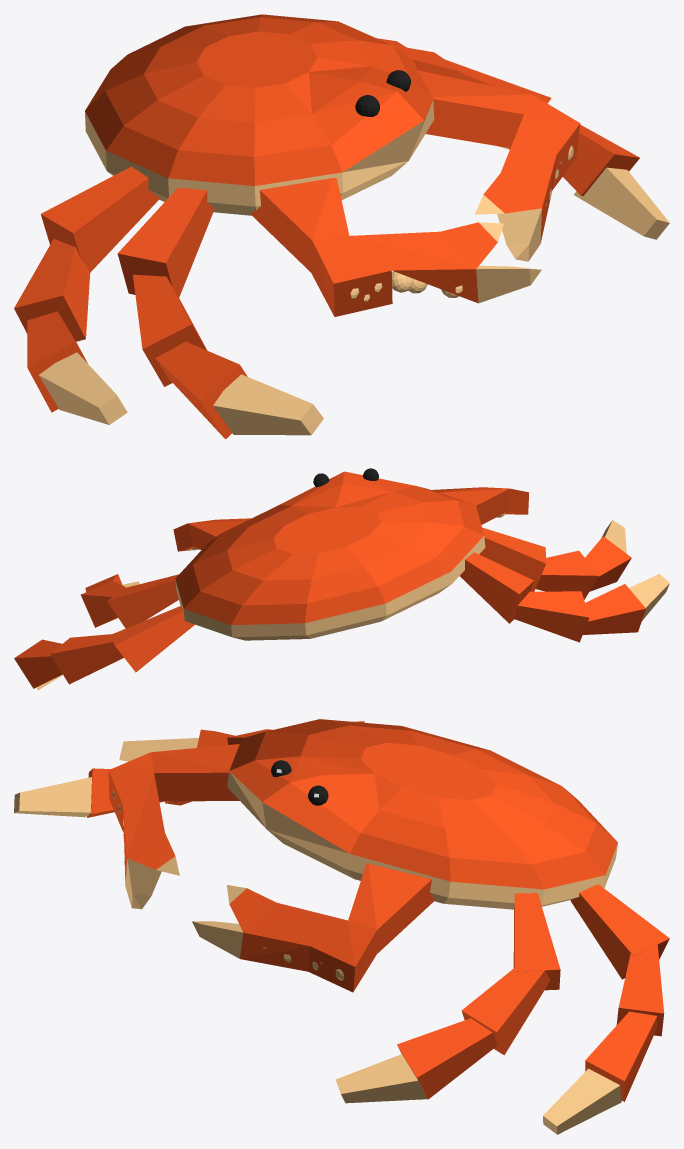
The model's file is animals-feeling-crabby-089.glb.
3 renders of one model, top to bottom at view 1: azimuth 30°, elevation 25°; view 2: azimuth 150°, elevation 25°; view 3: azimuth 270°, elevation 25°, orthographic. The views are drawn at different scales.
Visible parts, largest first — view 1: Node; view 2: Node; view 3: Node.
Part boxes in pixels (box(x1,y1,x2,y2)): Node: box(14, 14, 669, 439); Node: box(14, 468, 669, 690); Node: box(14, 719, 669, 1134).
Bounding box in the file's own units: 0.6944 × 0.2445 × 0.6342.
